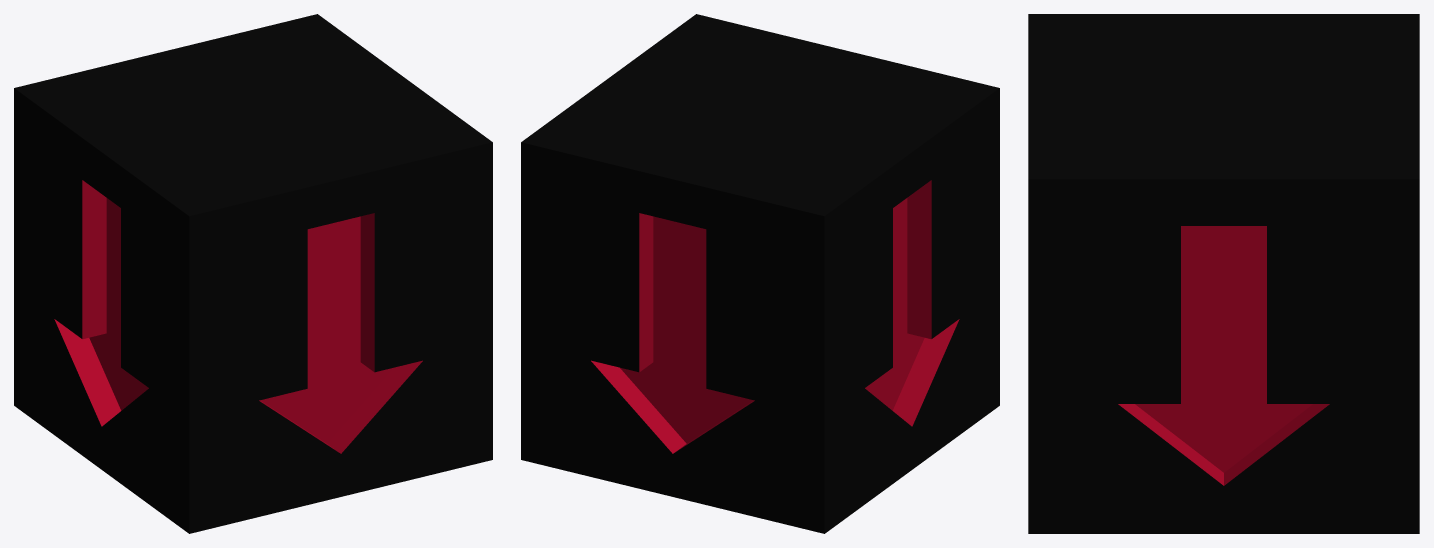
File: RotatorDown.fbx
The picture shows the model from 3 angles, left to right: view 1: azimuth 30°, elevation 25°; view 2: azimuth 150°, elevation 25°; view 3: azimuth 270°, elevation 25°; orthographic projection. The views are drawn at different scales.
Parts seen in each view (by area): view 1: Rotater; view 2: Rotater; view 3: Rotater.
Part boxes in pixels (x1,y1,x2,y2): Rotater: [14, 14, 492, 533]; Rotater: [521, 14, 999, 533]; Rotater: [1028, 14, 1419, 533].
Size of the model in its own units: 100 by 100 by 100.
